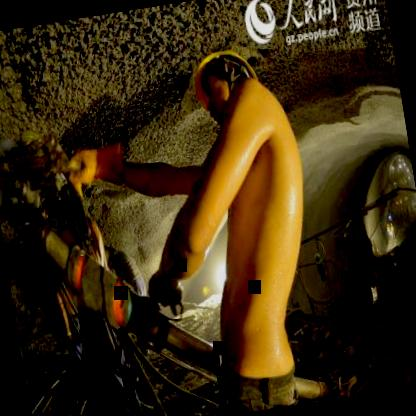helmet: (187, 39, 263, 119)
